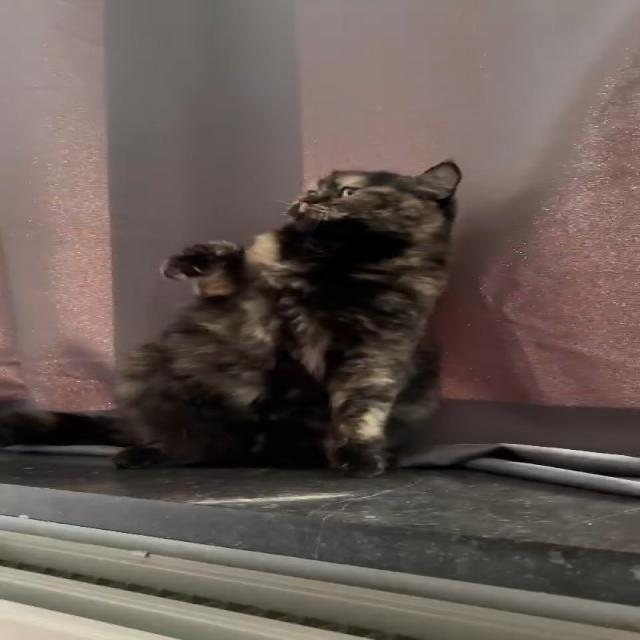authorized: (2, 158, 462, 478)
